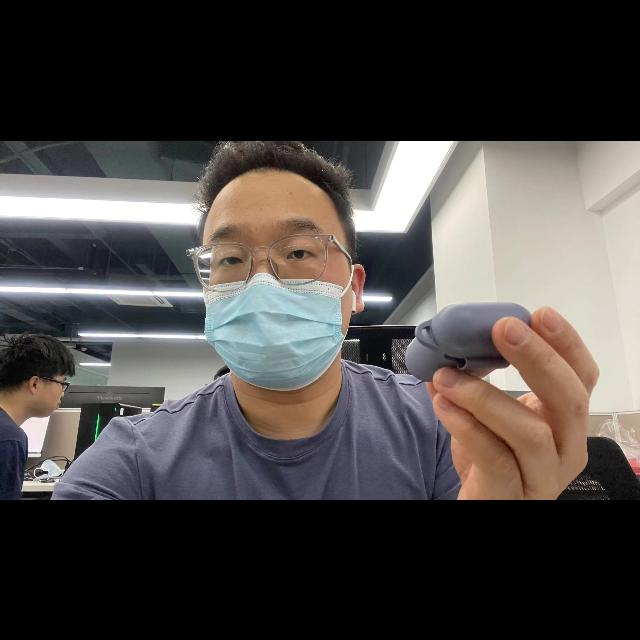airpods: (405, 299, 531, 384)
